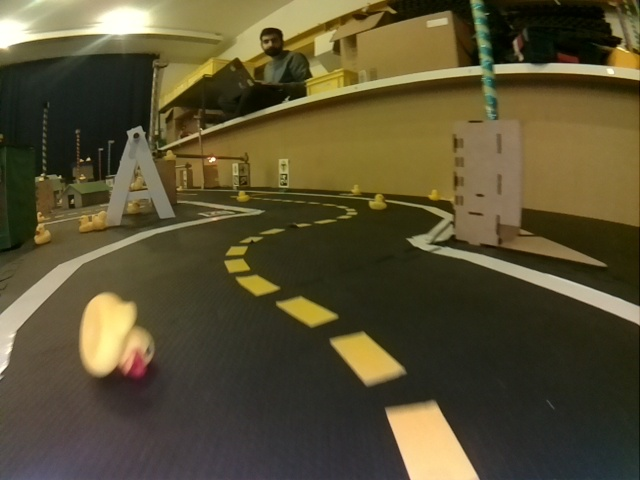Duckie: (80, 293, 152, 374), (34, 225, 49, 244), (93, 211, 107, 229), (370, 195, 386, 210), (78, 215, 92, 231), (237, 191, 247, 201), (429, 191, 439, 200), (351, 184, 360, 194)
Intersection sign: (280, 160, 289, 170)
QR code: (198, 210, 235, 219), (280, 173, 289, 185), (240, 175, 249, 185)
Traffic light: (208, 156, 216, 164)
